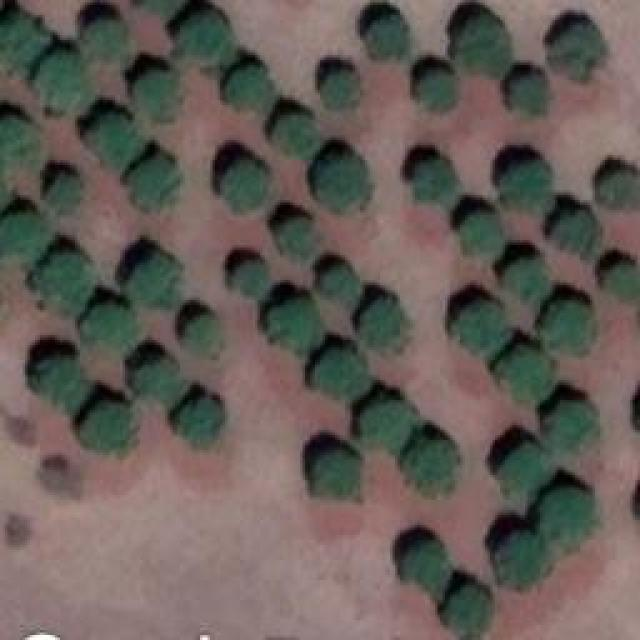Tree: (35, 255, 93, 313), (455, 15, 510, 75), (543, 485, 593, 550), (35, 357, 88, 415), (550, 25, 605, 78), (175, 18, 233, 68), (495, 535, 548, 588), (0, 15, 50, 70), (363, 403, 418, 453), (548, 403, 598, 458), (498, 350, 553, 400), (125, 253, 178, 303), (315, 350, 370, 398), (405, 440, 453, 495), (403, 542, 448, 600), (130, 155, 178, 208), (35, 53, 83, 106), (502, 160, 550, 213), (500, 445, 550, 495), (453, 305, 508, 350), (360, 298, 408, 348), (448, 585, 491, 640), (317, 157, 365, 205), (220, 162, 268, 210), (82, 402, 130, 450), (175, 397, 223, 445), (270, 300, 318, 348), (540, 305, 593, 348), (315, 450, 360, 498), (95, 120, 138, 168), (138, 357, 181, 405), (505, 260, 548, 308), (415, 160, 458, 208), (0, 215, 45, 260), (553, 213, 598, 258), (138, 73, 181, 118), (225, 65, 270, 108), (460, 213, 503, 258), (85, 305, 133, 343), (85, 20, 130, 60), (0, 118, 38, 163), (367, 15, 405, 60), (510, 75, 550, 115), (417, 72, 455, 110), (600, 173, 640, 208), (277, 118, 315, 153), (280, 218, 318, 253), (605, 265, 640, 303), (238, 260, 271, 298), (325, 73, 360, 108), (185, 315, 218, 348), (50, 175, 80, 208), (323, 268, 356, 298)
